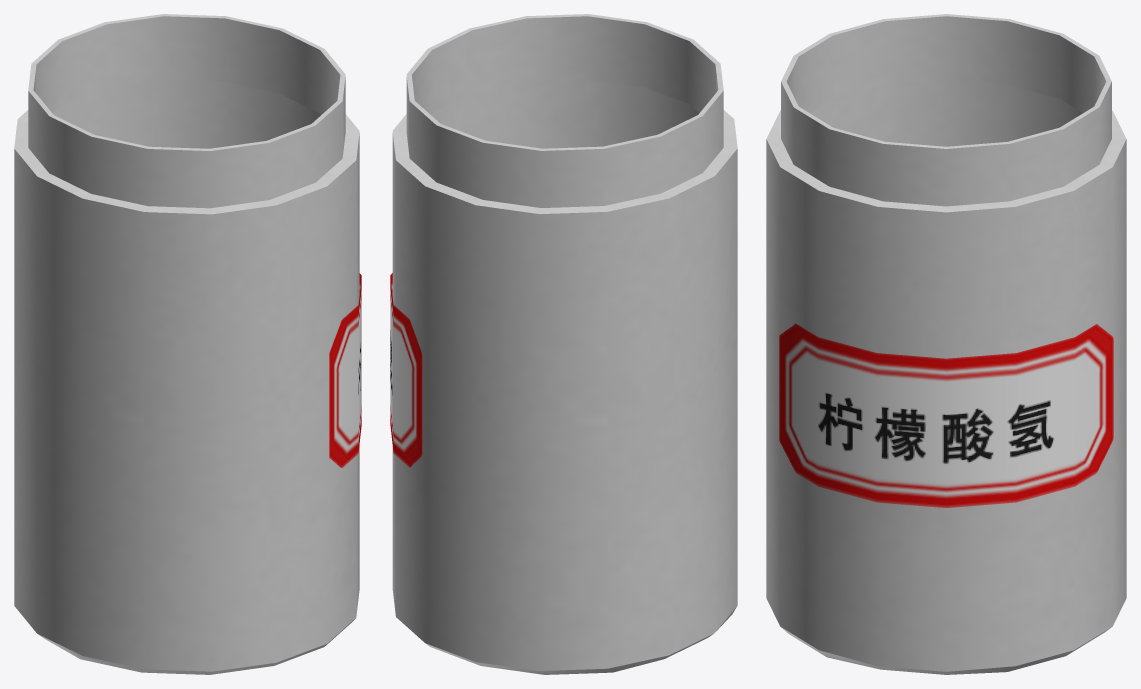
The model's file is SM_柠檬酸氢.fbx.
The picture shows the model from 3 angles, left to right: view 1: azimuth 30°, elevation 25°; view 2: azimuth 150°, elevation 25°; view 3: azimuth 270°, elevation 25°; orthographic projection.
Visible parts, largest first — view 1: SM_柠檬酸氢; view 2: SM_柠檬酸氢; view 3: SM_柠檬酸氢.
Part boxes in pixels (box(x1,y1,x2,y2)): SM_柠檬酸氢: box(14, 14, 361, 674); SM_柠檬酸氢: box(390, 14, 737, 674); SM_柠檬酸氢: box(766, 14, 1126, 674).
Size of the model in its own units: 77.81 by 128 by 80.11.
